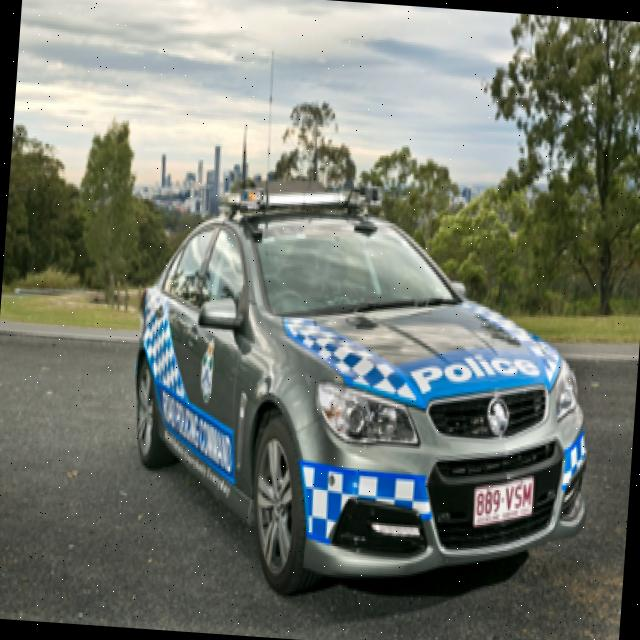Autre: (469, 475, 540, 531)
